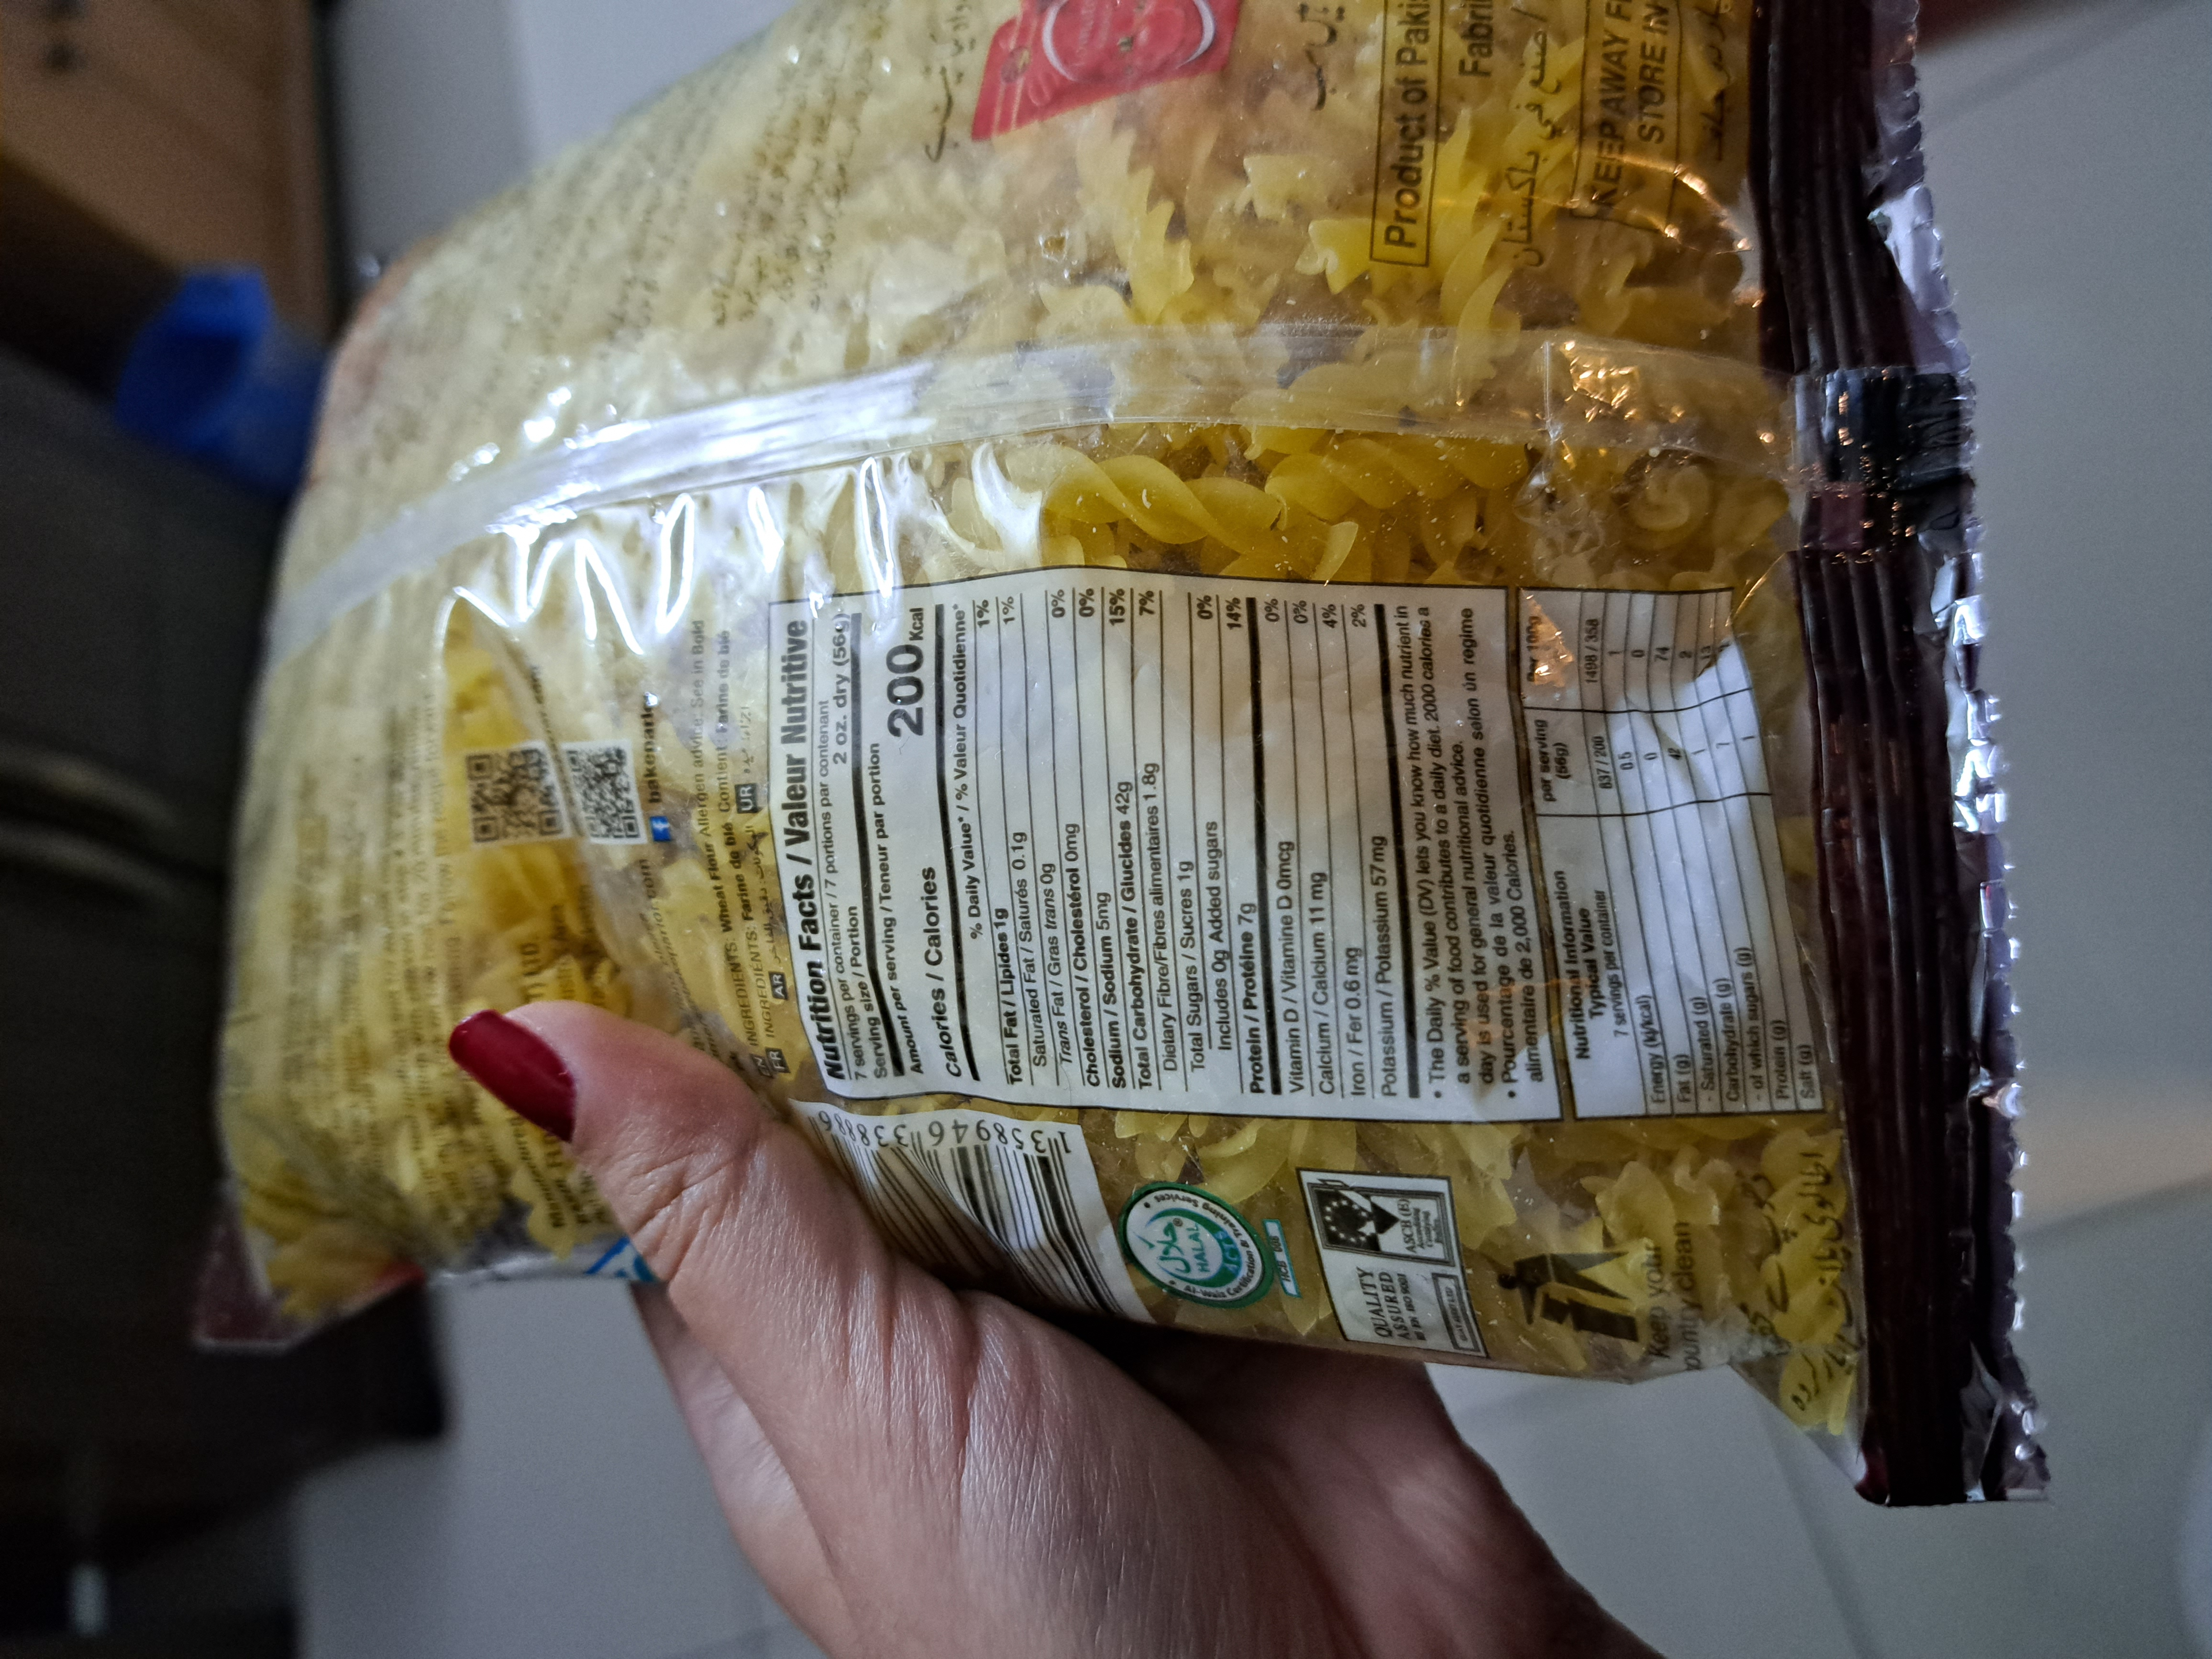table: (794, 584, 1822, 1096)
